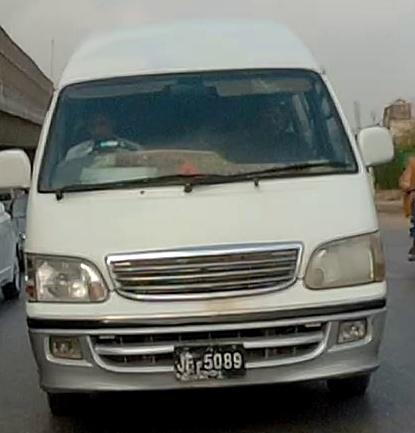car: (28, 24, 396, 416)
